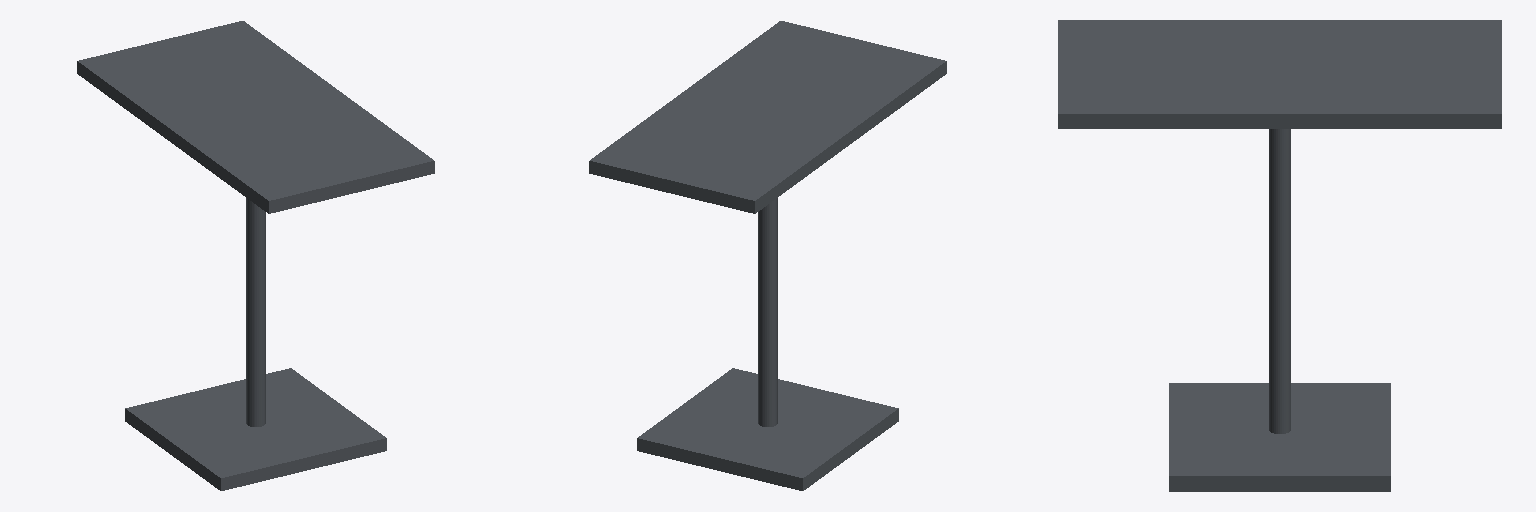
URDF robot description (big_table):
<?xml version="1.0" ?>
<robot name="big_table">
  <material name="gray">
    <color rgba="0.38 0.4 0.42 1"/>
  </material>

  <!--<static>true</static>-->
  <link name="link1">
    <collision name="surface">
      <origin xyz="0 0 0.735"/>
      <geometry>
        <box size="0.4 0.8 0.03"/>
      </geometry>
    </collision>
    <visual name="surface">
      <origin xyz="0 0 0.735"/>
      <geometry>
        <box size="0.4 0.8 0.03"/>
      </geometry>
      <material name="gray"/>
    </visual>
    <collision name="leg">
      <origin xyz="0 0 0.375"/>
      <geometry>
        <cylinder length="0.69" radius="0.02"/>
      </geometry>
    </collision>
    <visual name="leg">
      <origin xyz="0 0 0.375"/>
      <geometry>
        <cylinder length="0.69" radius="0.02"/>
      </geometry>
      <material name="gray"/>
    </visual>
    <collision name="base">
      <origin xyz="0 0 0.015"/>
      <geometry>
        <box size="0.4 0.4 0.03"/>
      </geometry>
    </collision>
    <visual name="base">
      <origin xyz="0 0 0.015"/>
      <geometry>
        <box size="0.4 0.4 0.03"/>
      </geometry>
      <material name="gray"/>
    </visual>
    <inertial>
        <mass value="5.0"/>
        <origin xyz="0 0 0"/>
        <inertia ixx="1.0" ixy="0" ixz="0" iyy="1.0" iyz="0" izz="1.0"/>
    </inertial>
  </link>
</robot>

--- Render facts (derived) ---
3 views of the same robot in one strip: view 1: azimuth 30°, elevation 25°; view 2: azimuth 150°, elevation 25°; view 3: azimuth 270°, elevation 25° (orthographic).
Robot: big_table — 1 links, 0 joints (none); root link link1; default pose: every joint at zero.
Visible links, largest first — view 1: link1; view 2: link1; view 3: link1.
Link boxes in pixels (x1,y1,x2,y2): link1: (77,21,434,490); link1: (589,21,946,490); link1: (1058,20,1501,491).
Size in the robot's own frame: 0.4 by 0.8 by 0.75 metres.
Geometry: primitives only (box / cylinder / sphere), no mesh files.